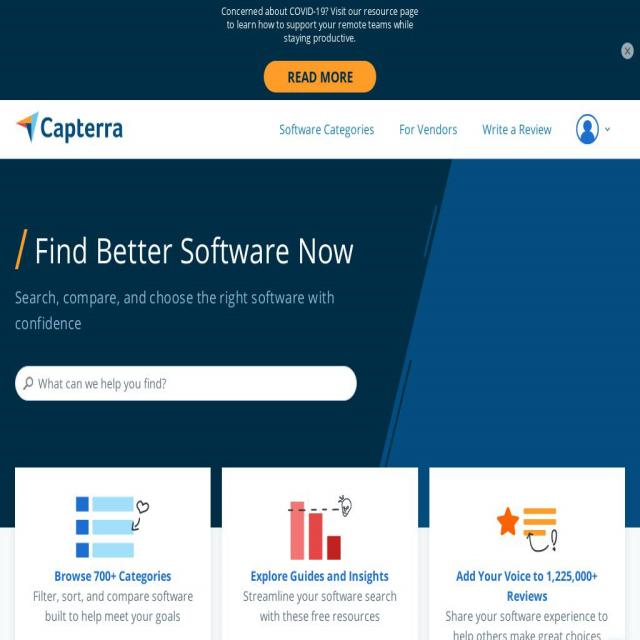navigation-blocks: (12, 463, 640, 640)
navigation-links: (275, 110, 559, 152)
search: (12, 357, 362, 408)
